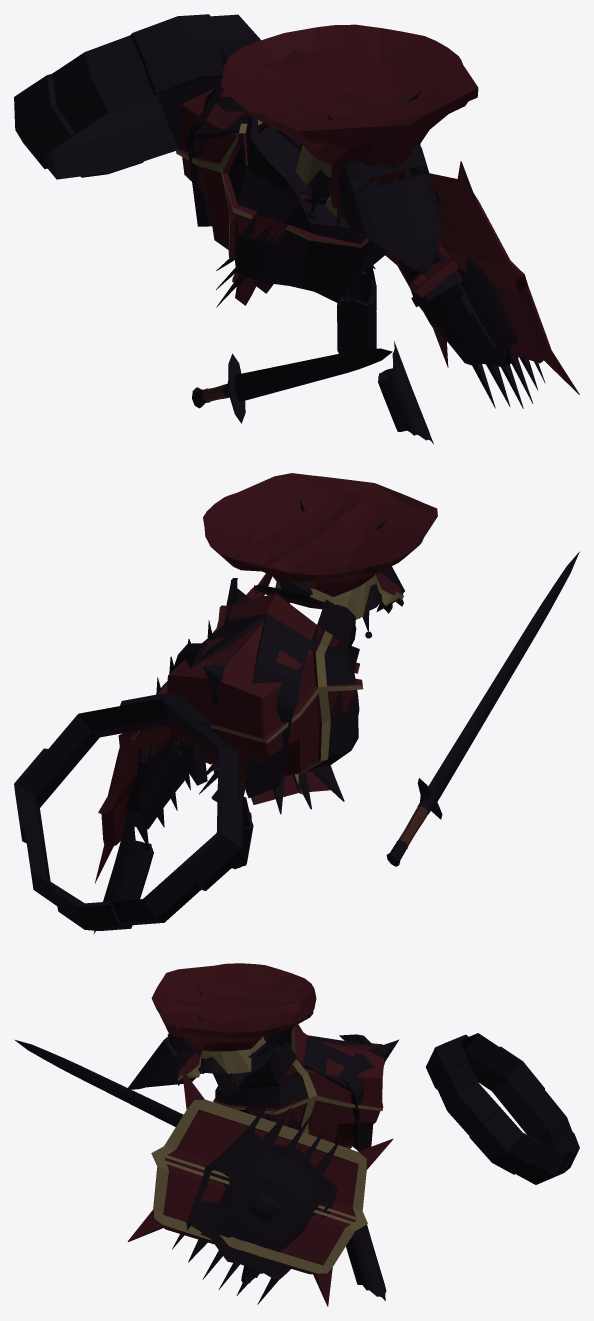
Rendered from Ant Armors.fbx.
The picture shows the model from 3 angles, top to bottom: view 1: azimuth 30°, elevation 25°; view 2: azimuth 150°, elevation 25°; view 3: azimuth 270°, elevation 25°; orthographic projection. The views are drawn at different scales.
Parts seen in each view (by area): view 1: helmet_C, Torus_B, Chest piece_B, shield_C, helmet_D, shield_B, Chest piece_C, gard_B, Ant Sword_B, helmet_B; view 2: helmet_C, Torus_B, Chest piece_C, Chest piece_B, Ant Sword_B, shield_B, shield_C, gard_B, helmet_D, helmet_B; view 3: shield_C, shield_B, Torus_B, helmet_C, Chest piece_B, Chest piece_C, helmet_D, Ant Sword_B, gard_B, helmet_B.
Part boxes in pixels (left/top/right/bottom): helmet_C: left=221, top=24, right=478, bottom=221; Torus_B: left=14, top=14, right=260, bottom=179; Chest piece_B: left=186, top=50, right=388, bottom=307; shield_C: left=385, top=161, right=579, bottom=394; helmet_D: left=276, top=129, right=442, bottom=274; shield_B: left=397, top=215, right=545, bottom=408; Chest piece_C: left=176, top=85, right=395, bottom=305; gard_B: left=337, top=267, right=433, bottom=443; Ant Sword_B: left=192, top=348, right=392, bottom=423; helmet_B: left=300, top=78, right=441, bottom=229; helmet_C: left=203, top=473, right=437, bottom=619; Torus_B: left=14, top=693, right=243, bottom=930; Chest piece_C: left=167, top=593, right=363, bottom=804; Chest piece_B: left=172, top=578, right=359, bottom=814; Ant Sword_B: left=386, top=551, right=579, bottom=866; shield_B: left=126, top=620, right=212, bottom=843; shield_C: left=95, top=573, right=272, bottom=883; gard_B: left=93, top=797, right=253, bottom=934; helmet_D: left=253, top=566, right=404, bottom=638; helmet_B: left=275, top=497, right=403, bottom=619; shield_C: left=127, top=1070, right=393, bottom=1306; shield_B: left=172, top=1096, right=341, bottom=1304; Torus_B: left=426, top=1033, right=579, bottom=1184; helmet_C: left=151, top=963, right=316, bottom=1080; Chest piece_B: left=215, top=1025, right=399, bottom=1151; Chest piece_C: left=213, top=1024, right=384, bottom=1149; helmet_D: left=127, top=1028, right=286, bottom=1092; Ant Sword_B: left=14, top=1039, right=183, bottom=1126; gard_B: left=241, top=1225, right=386, bottom=1301; helmet_B: left=177, top=985, right=280, bottom=1085.
Size of the model in its own units: 378 by 483 by 946.
